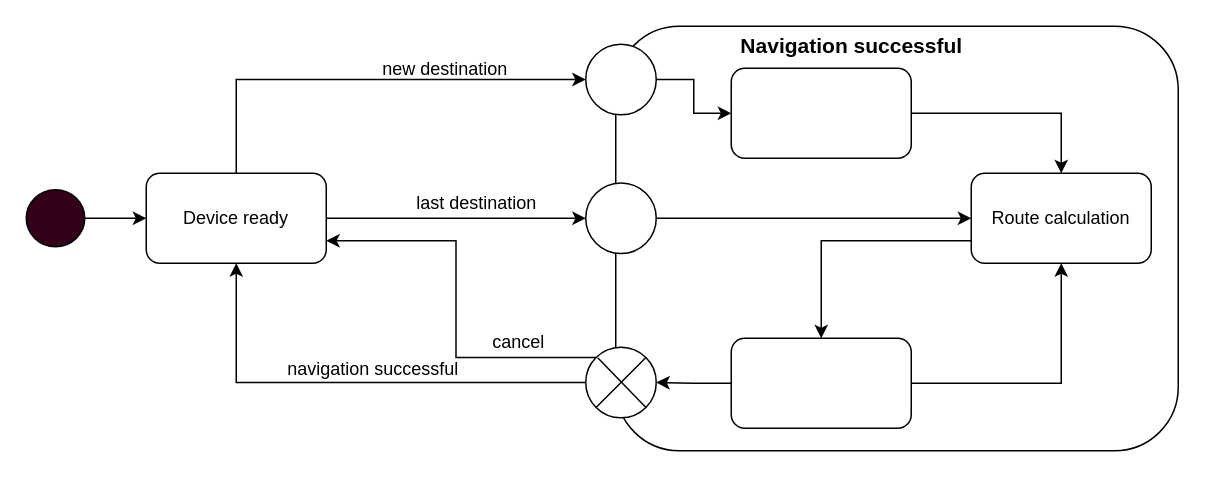
The diagram is 1205 pixels wide and 477 high, and some of its shapes have lost their labels. The shapes that lost their labels are listed below. From the top down, each one's centre as x and y in pixels, then its label:
At (820,112): "enter Destination".
At (820,382): "Display Route".
